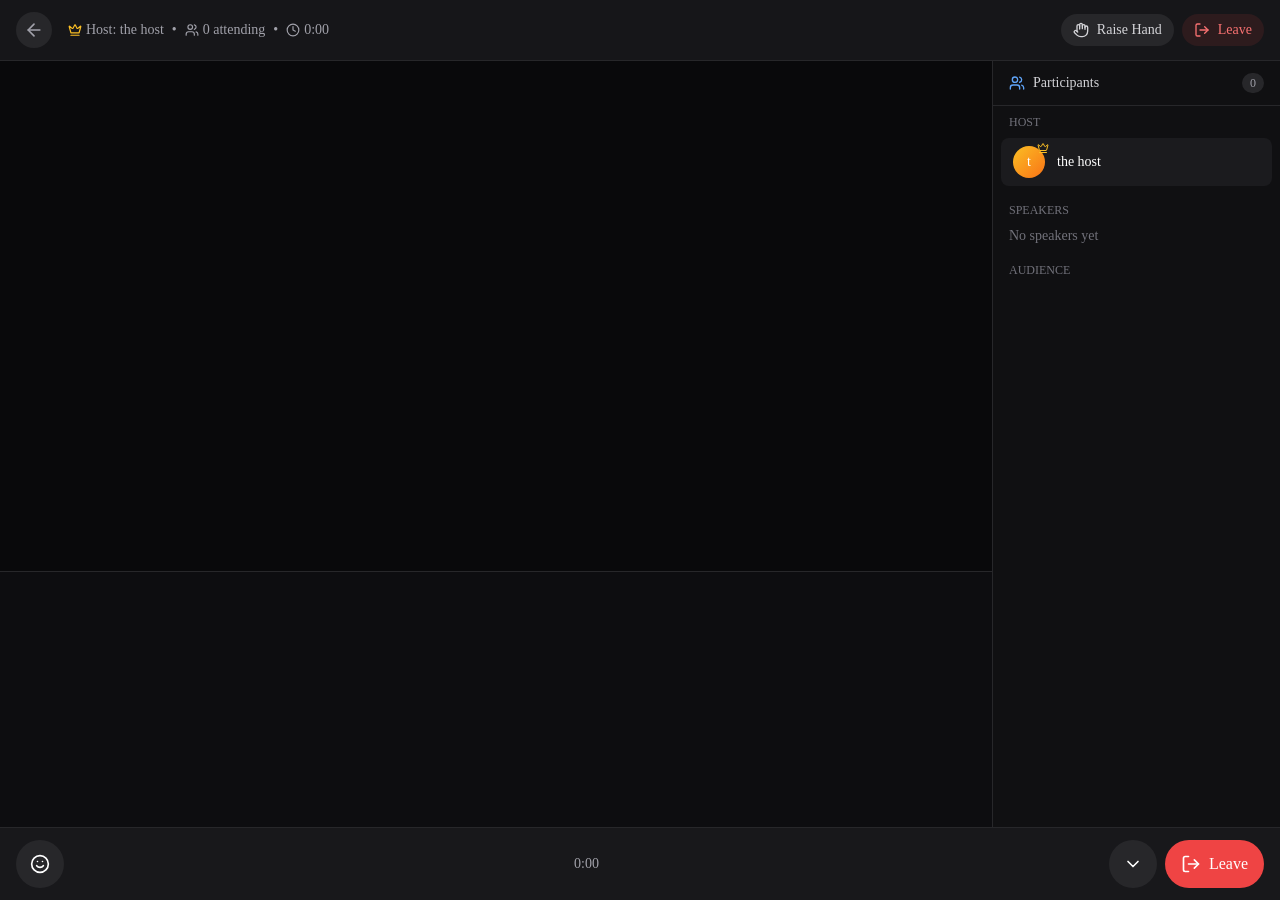
Test: a click waits for the transport instead of being dropped › leaves the hand raised when it did leave
What coordinates should you click on to do the following:
click the button "Raise Hand"
I would click on:
 (1117, 30)
Its box is 1061,14 -> 1174,46.
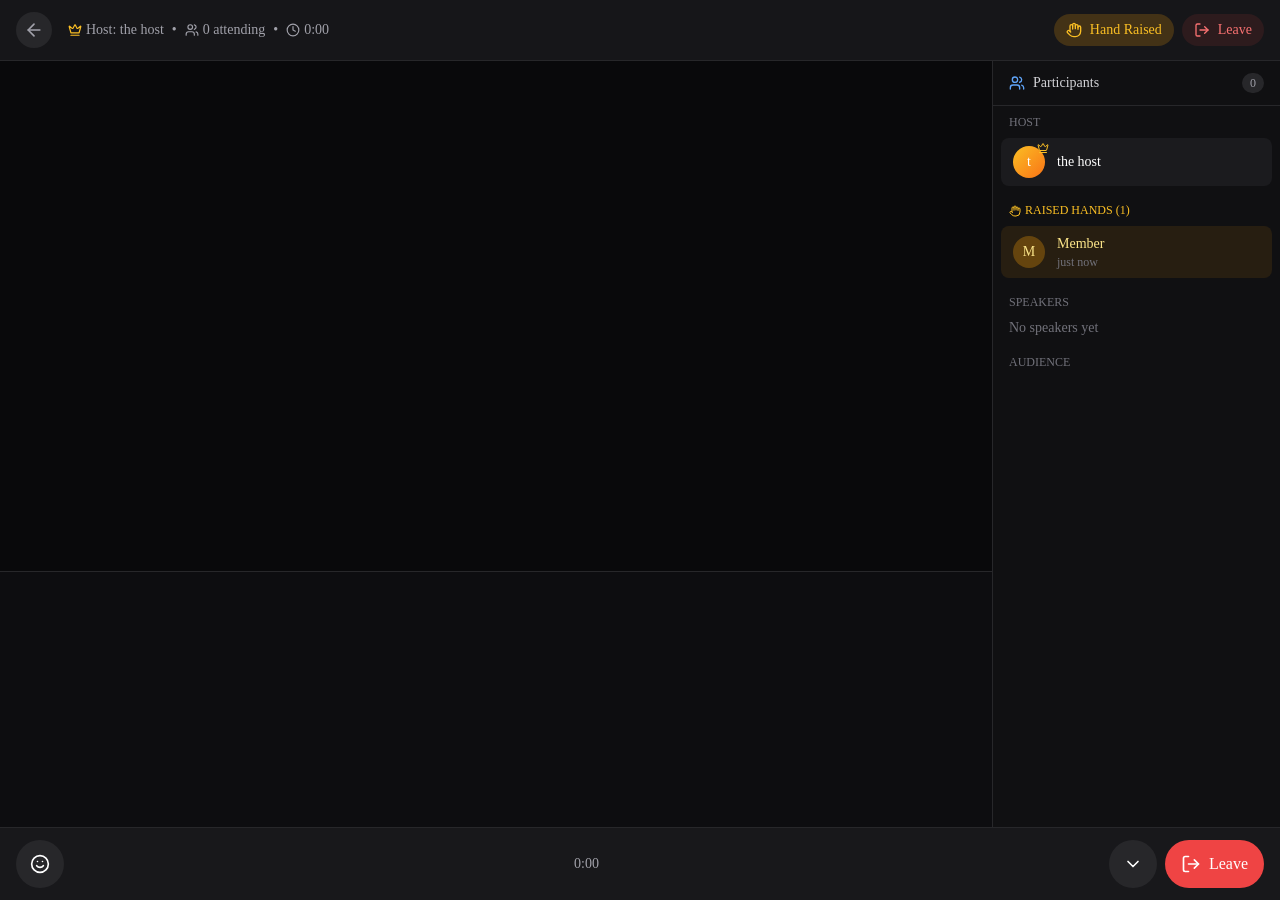
Expected: the text "Hand Raised" is shown, 1090,20 -> 1162,40
